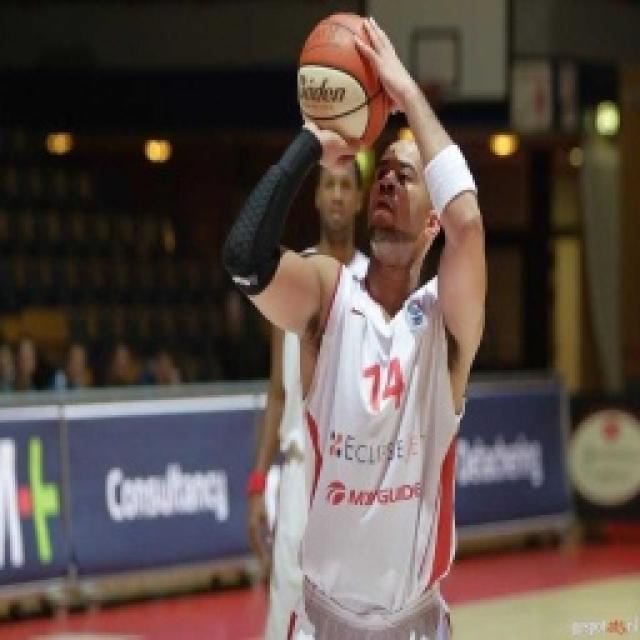rim: (291, 1, 408, 154)
